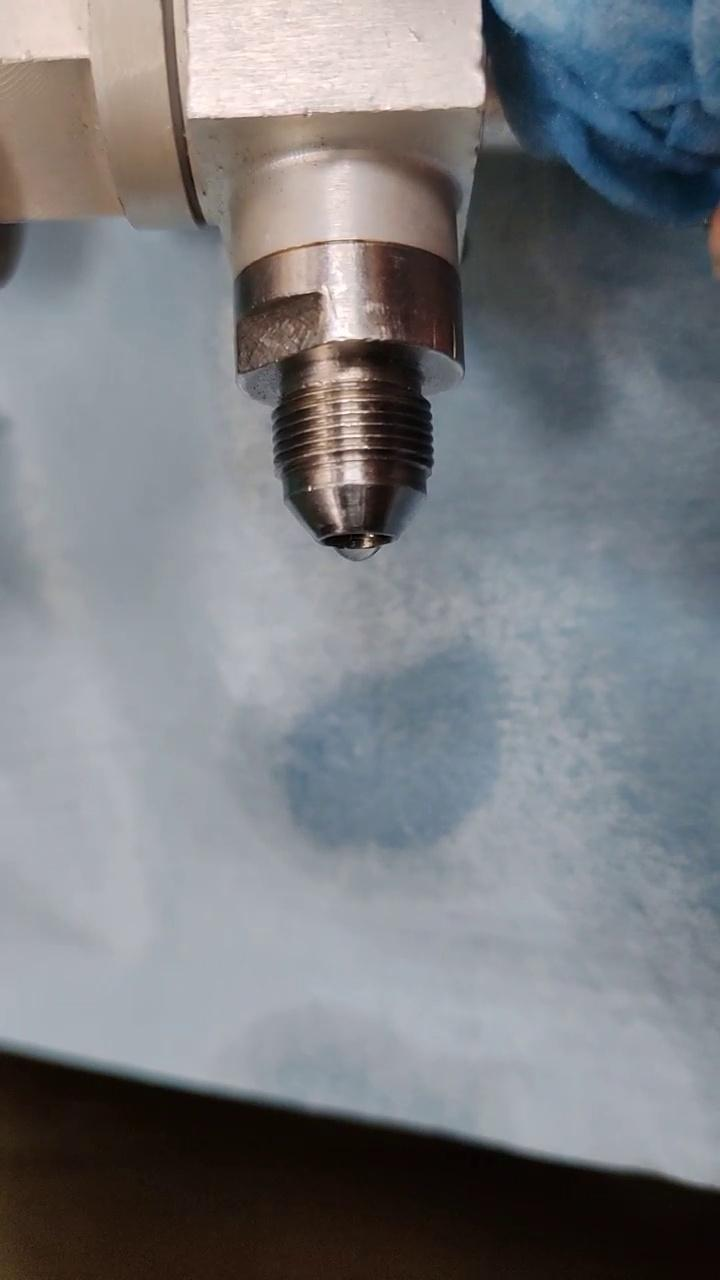water drop: (338, 541, 379, 559)
